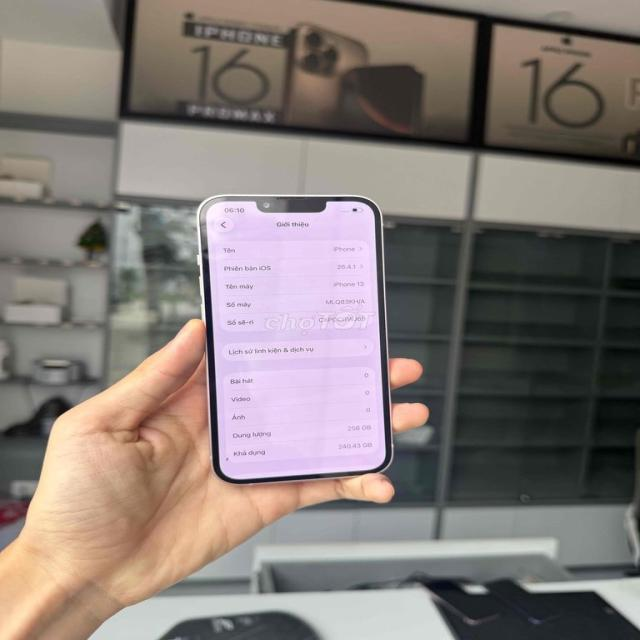gen_12_13: (195, 193, 396, 480)
